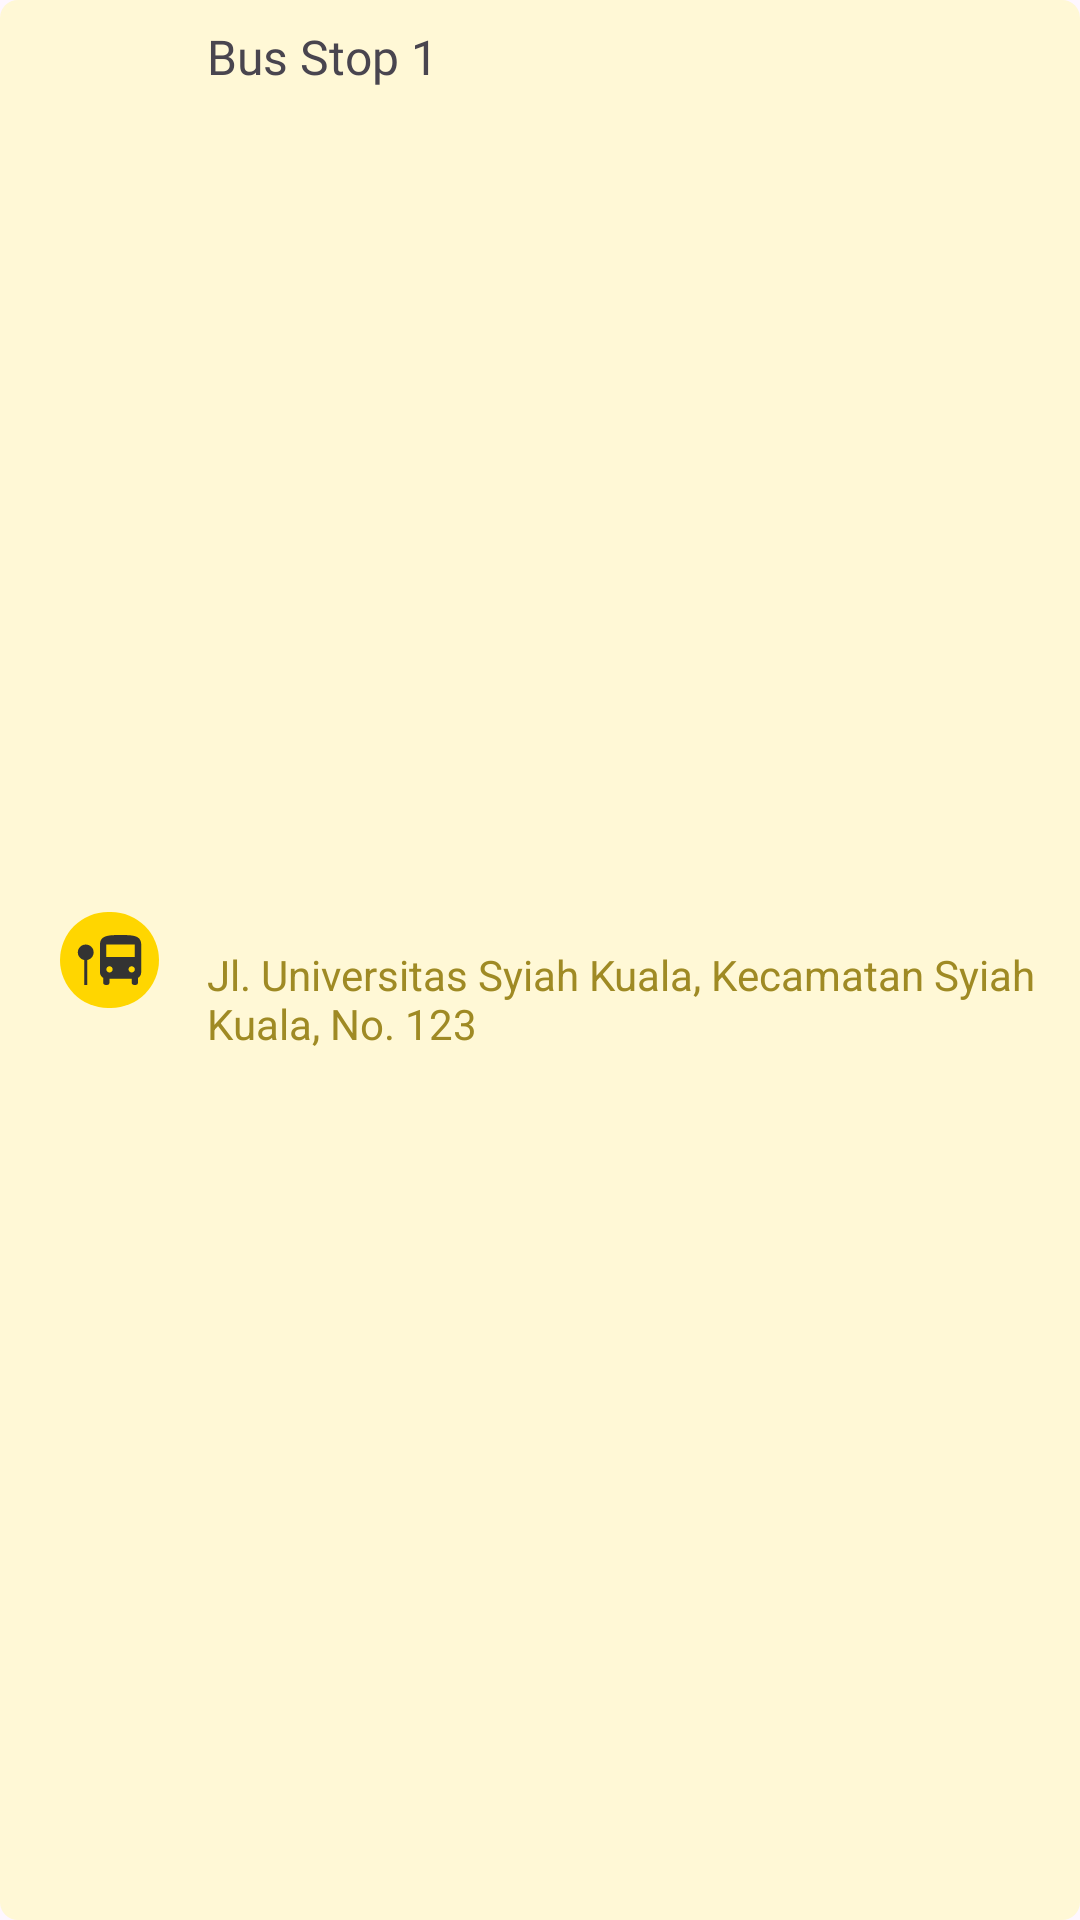

Icons on this 1080*1920 Android screen, each with the point to tap as point (x, y):
bus stop: point (109, 960)
